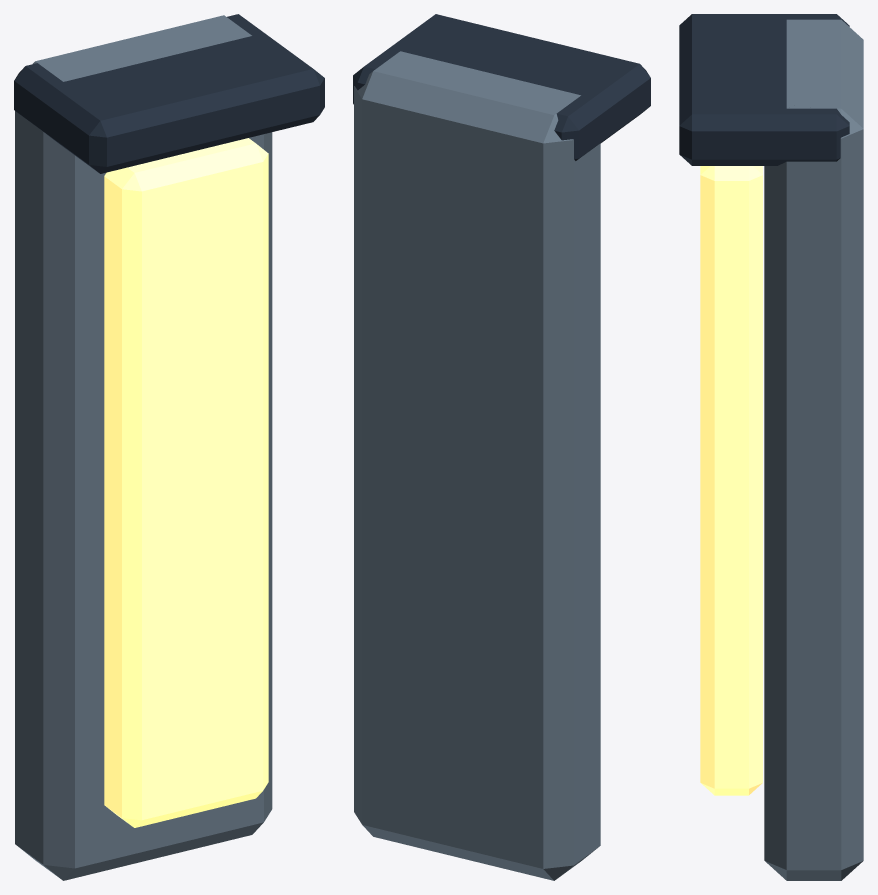
File: decor_05.glb
3 renders of one model, left to right at view 1: azimuth 30°, elevation 25°; view 2: azimuth 150°, elevation 25°; view 3: azimuth 270°, elevation 25°, orthographic. The views are drawn at different scales.
Visible parts, largest first — view 1: WarmDiffuser, WallSconce, SconceCap; view 2: WallSconce, SconceCap; view 3: WallSconce, WarmDiffuser, SconceCap.
Boxes of the visible parts, x1,y1,x2,y2 form: WarmDiffuser: (104, 138, 268, 827); WallSconce: (15, 15, 272, 880); SconceCap: (14, 14, 324, 173); WallSconce: (354, 51, 600, 880); SconceCap: (353, 14, 650, 160); WallSconce: (764, 19, 863, 880); WarmDiffuser: (700, 166, 762, 795); SconceCap: (679, 14, 849, 165).
Size of the model in its own units: 0.1854 by 0.6 by 0.13.
